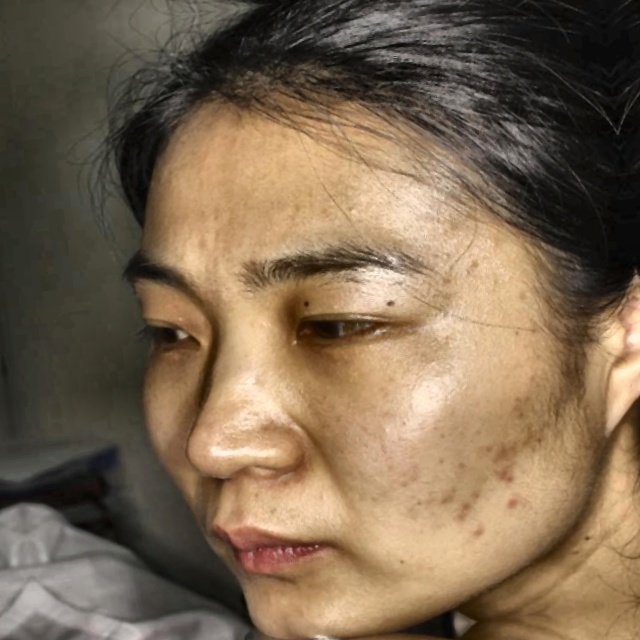comedone: (483, 434, 516, 466), (489, 465, 529, 491), (449, 500, 480, 529), (504, 490, 532, 513)
